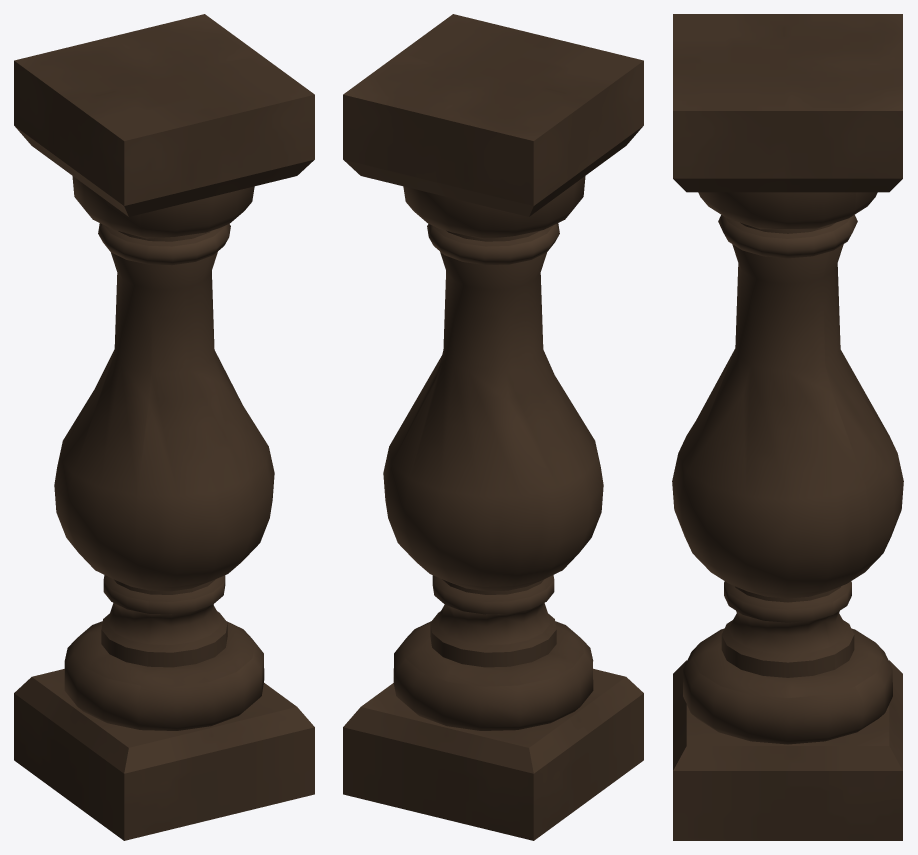
File: baluster_turned.glb
3 views of the same model, side by side, from view 1: azimuth 30°, elevation 25°; view 2: azimuth 150°, elevation 25°; view 3: azimuth 270°, elevation 25° (orthographic). The views are drawn at different scales.
Visible parts, largest first — view 1: baluster_turned; view 2: baluster_turned; view 3: baluster_turned.
Part boxes in pixels (x1,y1,x2,y2): baluster_turned: (14,14,314,840); baluster_turned: (343,14,643,840); baluster_turned: (672,14,903,840).
Size of the model in its own units: 0.2475 by 0.86 by 0.2475.
1 material, 1 textured.
